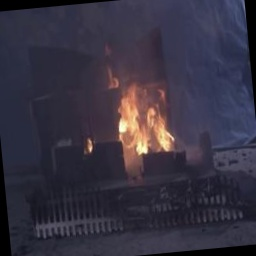fire: (101, 68, 183, 168)
